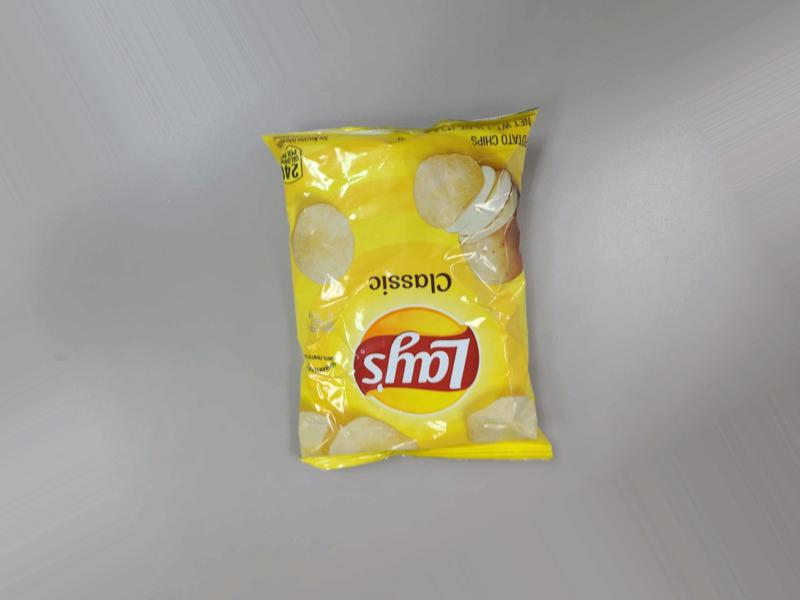lays: (245, 73, 536, 464)
